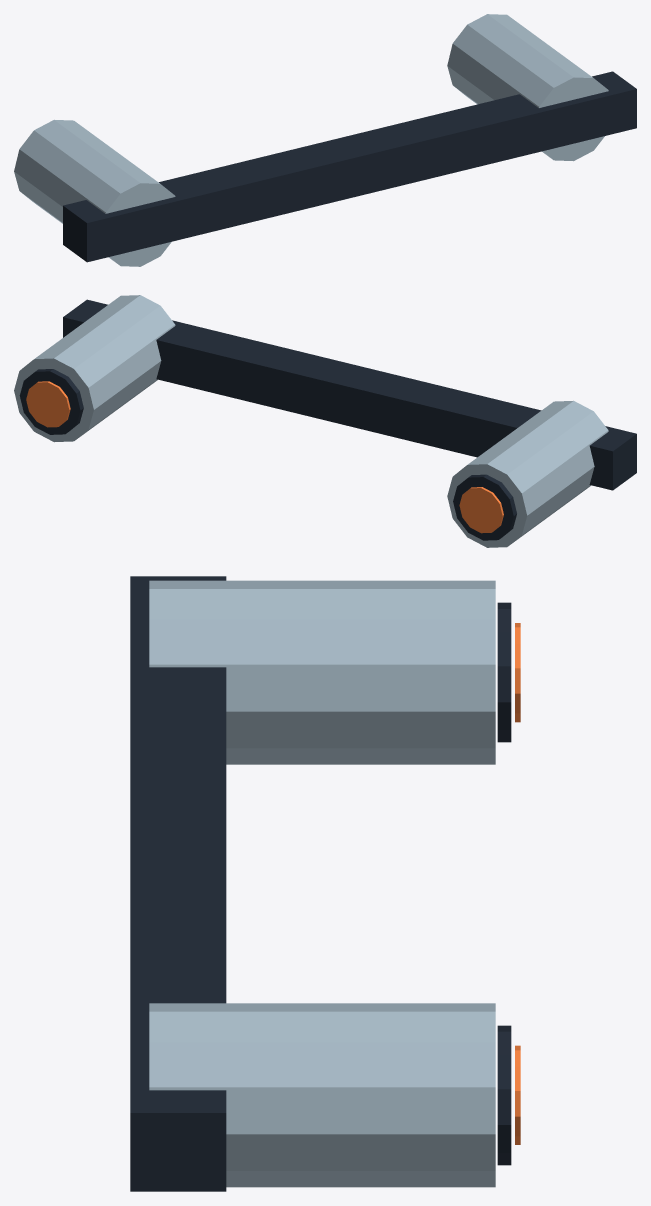
The model's file is amber.glb.
The picture shows the model from 3 angles, top to bottom: view 1: azimuth 30°, elevation 25°; view 2: azimuth 150°, elevation 25°; view 3: azimuth 270°, elevation 25°; orthographic projection. The views are drawn at different scales.
Visible parts, largest first — view 1: EffectAccessory; view 2: EffectAccessory; view 3: EffectAccessory.
Boxes of the visible parts, <box> form: EffectAccessory: <box>14,14,636,266</box>; EffectAccessory: <box>14,295,636,547</box>; EffectAccessory: <box>130,576,520,1191</box>.
Bounding box in the file's own units: 0.66 × 0.096 × 0.203.
